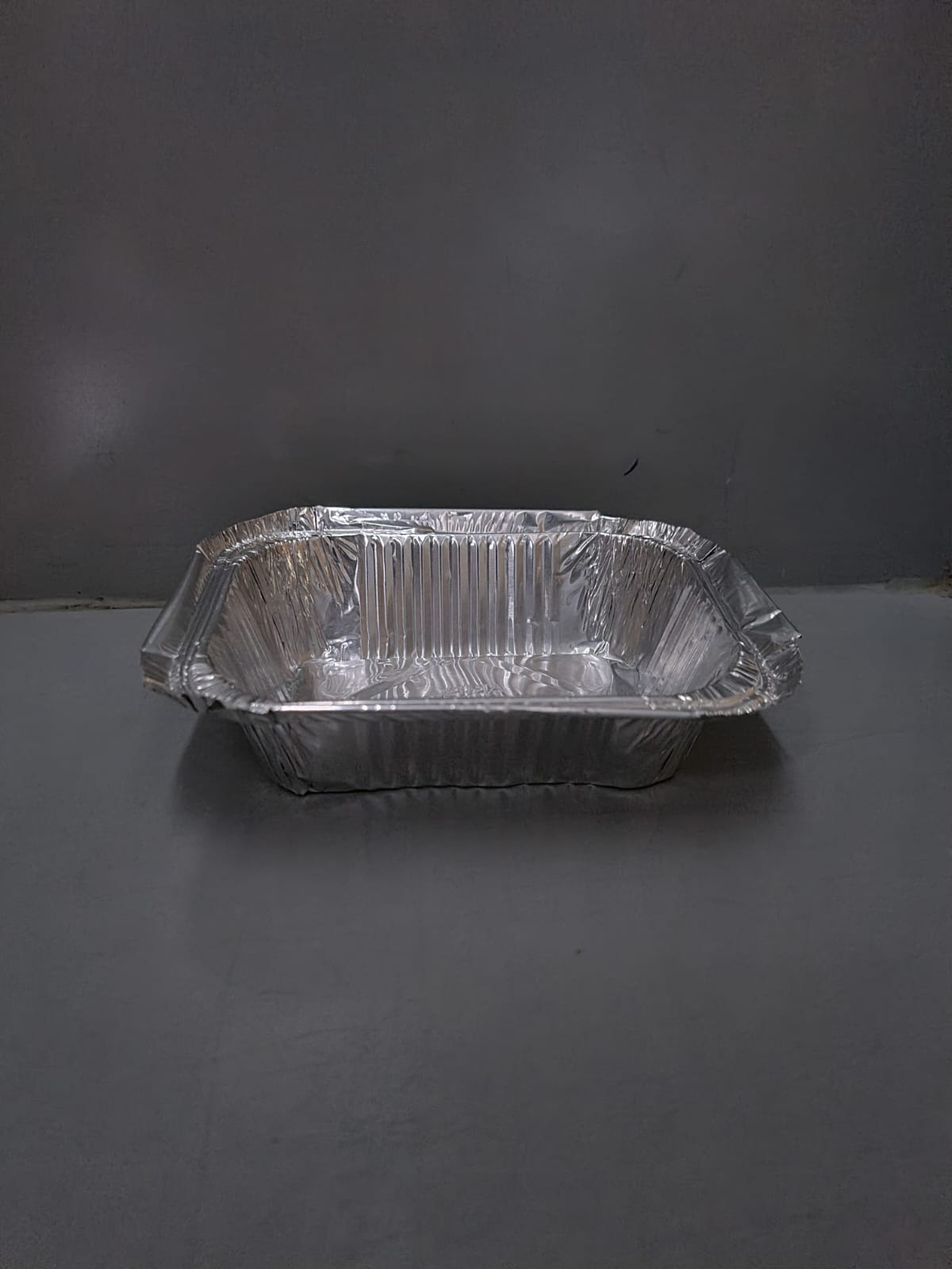Metal: (163, 485, 804, 852)
